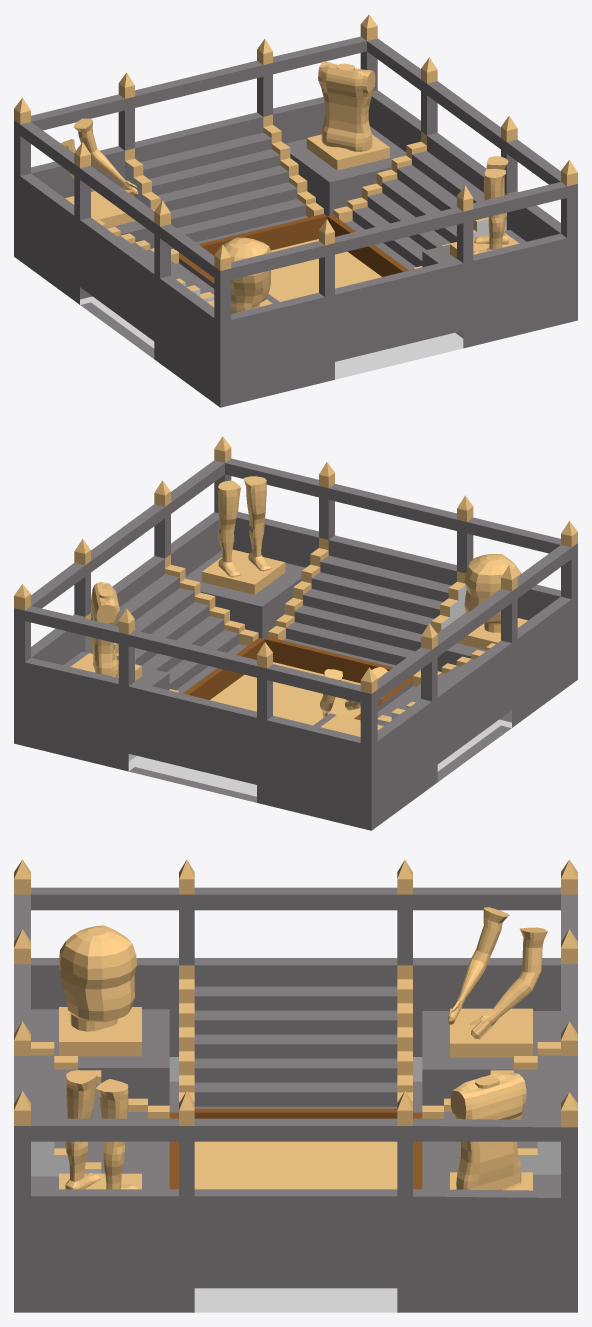
The model's file is Arena1Revised (1).fbx.
3 renders of one model, top to bottom at view 1: azimuth 30°, elevation 25°; view 2: azimuth 150°, elevation 25°; view 3: azimuth 270°, elevation 25°, orthographic. The views are drawn at different scales.
Parts seen in each view (by area): view 1: Cube; view 2: Cube; view 3: Cube.
Boxes of the visible parts, <box> form: Cube: <box>14,14,577,407</box>; Cube: <box>14,436,577,830</box>; Cube: <box>14,859,577,1312</box>.
Bounding box in the file's own units: 36197 × 15477 × 36197.
